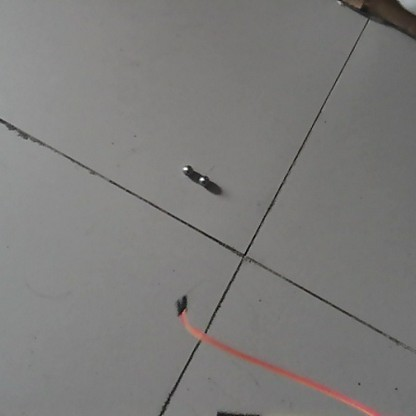ironball: (196, 173, 209, 186), (180, 163, 191, 176)
